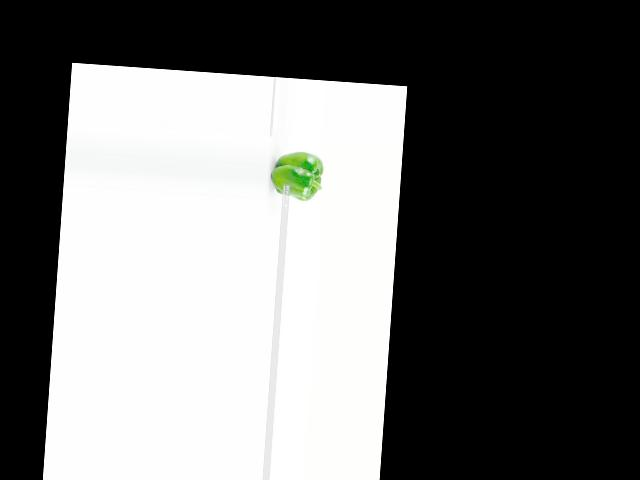bell_pepper: (267, 147, 327, 201)
